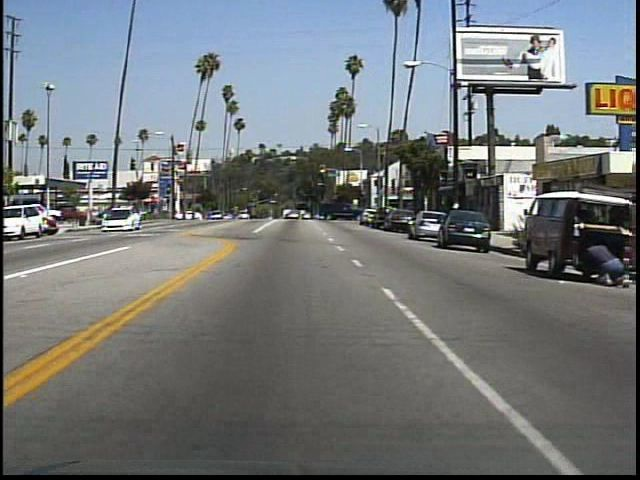person: (578, 239, 627, 292)
